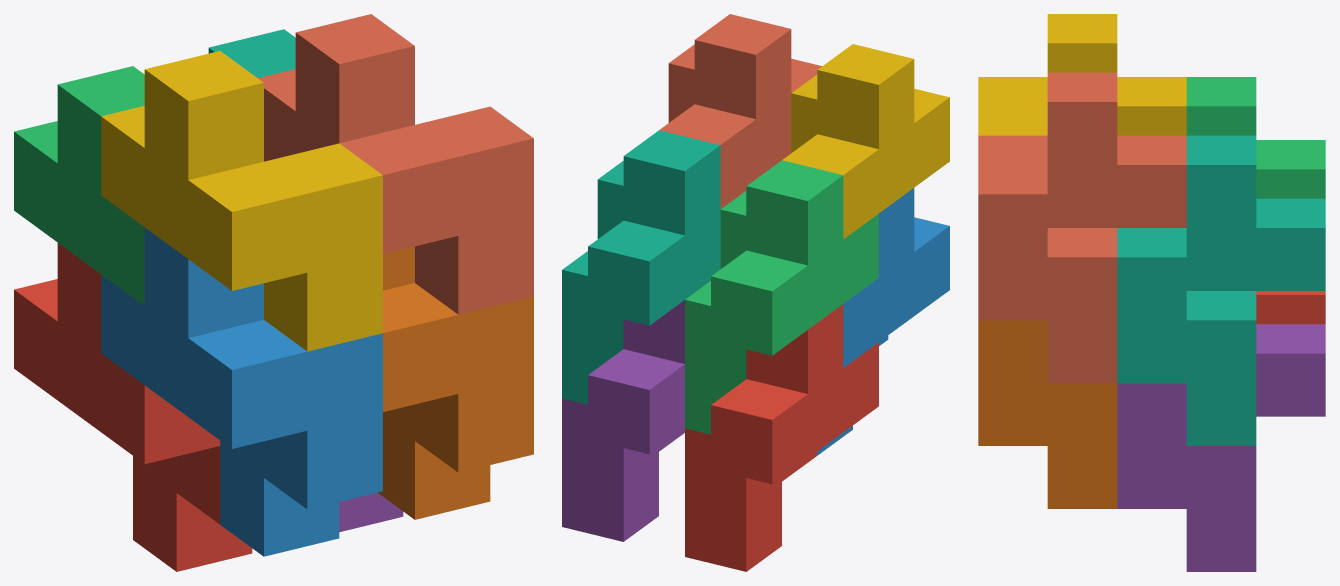
The model's file is tiling.obj.
3 views of the same model, side by side, from view 1: azimuth 30°, elevation 25°; view 2: azimuth 150°, elevation 25°; view 3: azimuth 270°, elevation 25° (orthographic). The views are drawn at different scales.
Parts seen in each view (by area): view 1: copy_1_domain_4, copy_1_domain_2, copy_1_domain_8, copy_1_domain_6, copy_1_domain_1, copy_1_domain_3, copy_1_domain_7, copy_1_domain_5; view 2: copy_1_domain_3, copy_1_domain_1, copy_1_domain_7, copy_1_domain_5, copy_1_domain_4, copy_1_domain_8, copy_1_domain_2; view 3: copy_1_domain_8, copy_1_domain_7, copy_1_domain_5, copy_1_domain_6, copy_1_domain_4, copy_1_domain_3, copy_1_domain_1.
Boxes of the visible parts, box(x1,y1,x2,y2) form: copy_1_domain_4: box(101, 51, 382, 351); copy_1_domain_2: box(101, 227, 382, 556); copy_1_domain_8: box(258, 14, 533, 314); copy_1_domain_6: box(378, 246, 533, 519); copy_1_domain_1: box(14, 243, 252, 571); copy_1_domain_3: box(14, 66, 144, 305); copy_1_domain_7: box(208, 29, 295, 77); copy_1_domain_5: box(339, 492, 403, 532); copy_1_domain_3: box(685, 160, 878, 434); copy_1_domain_1: box(685, 304, 878, 571); copy_1_domain_7: box(562, 130, 720, 404); copy_1_domain_5: box(562, 300, 684, 541); copy_1_domain_4: box(782, 44, 949, 239); copy_1_domain_8: box(659, 14, 821, 208); copy_1_domain_2: box(817, 188, 949, 455); copy_1_domain_8: box(978, 72, 1186, 383); copy_1_domain_7: box(1117, 135, 1325, 445); copy_1_domain_5: box(1117, 324, 1325, 571); copy_1_domain_6: box(978, 320, 1117, 508); copy_1_domain_4: box(978, 14, 1186, 135); copy_1_domain_3: box(1186, 77, 1325, 198); copy_1_domain_1: box(1256, 291, 1325, 324).
Bounding box in the file's own units: 4 × 7 × 5.
